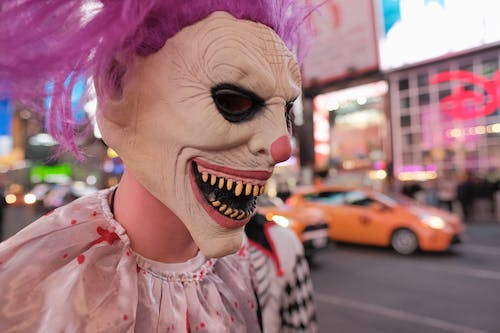blood: (41, 190, 259, 333)
